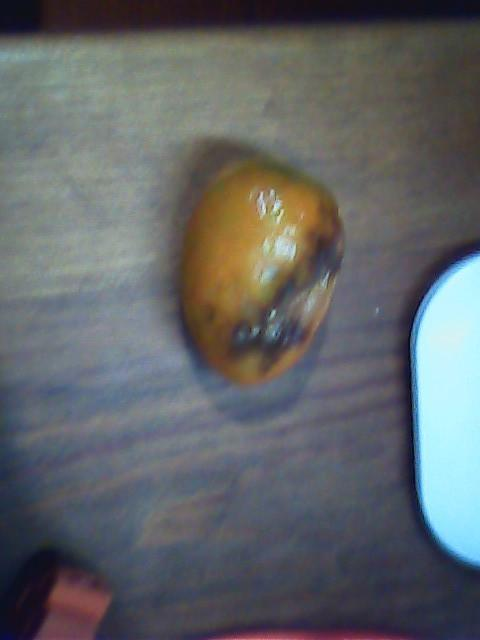defectuoso: (185, 155, 347, 389)
